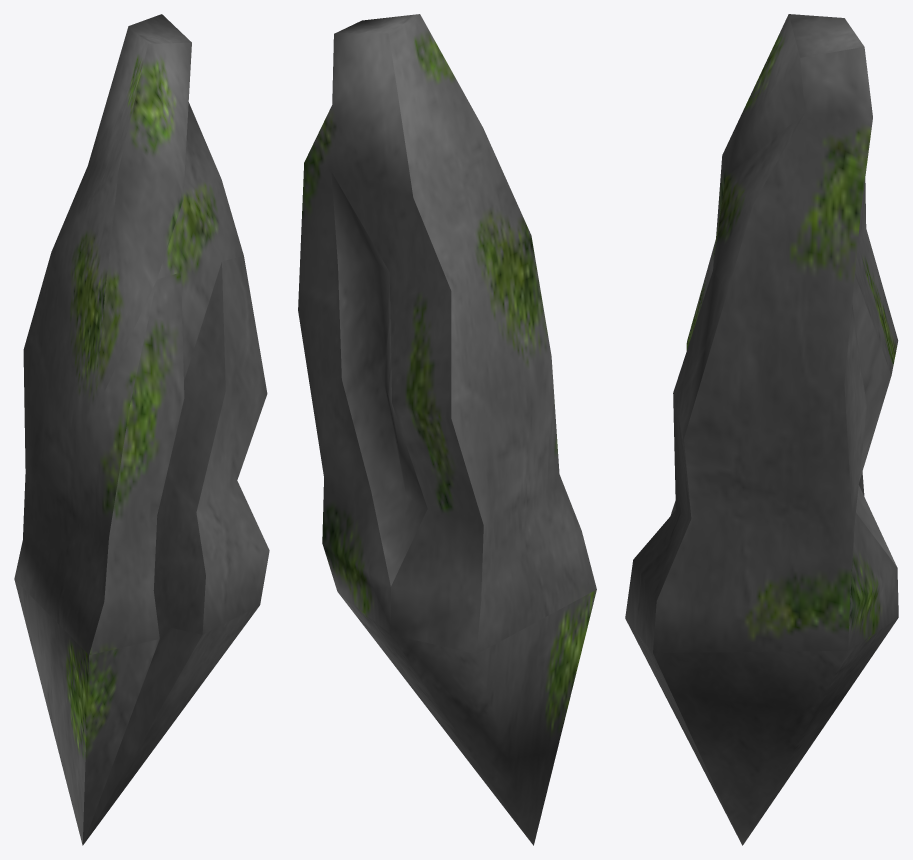
3 views of the same model, side by side, from view 1: azimuth 30°, elevation 25°; view 2: azimuth 150°, elevation 25°; view 3: azimuth 270°, elevation 25° (orthographic). The views are drawn at different scales.
Parts seen in each view (by area): view 1: rock_LOD0; view 2: rock_LOD0; view 3: rock_LOD0.
Boxes of the visible parts, bbox=[...] form: rock_LOD0: bbox=[14, 14, 269, 845]; rock_LOD0: bbox=[298, 14, 596, 845]; rock_LOD0: bbox=[625, 14, 898, 845].
Size of what is drawn, in the model's own units: 91.61 by 334 by 94.22.
